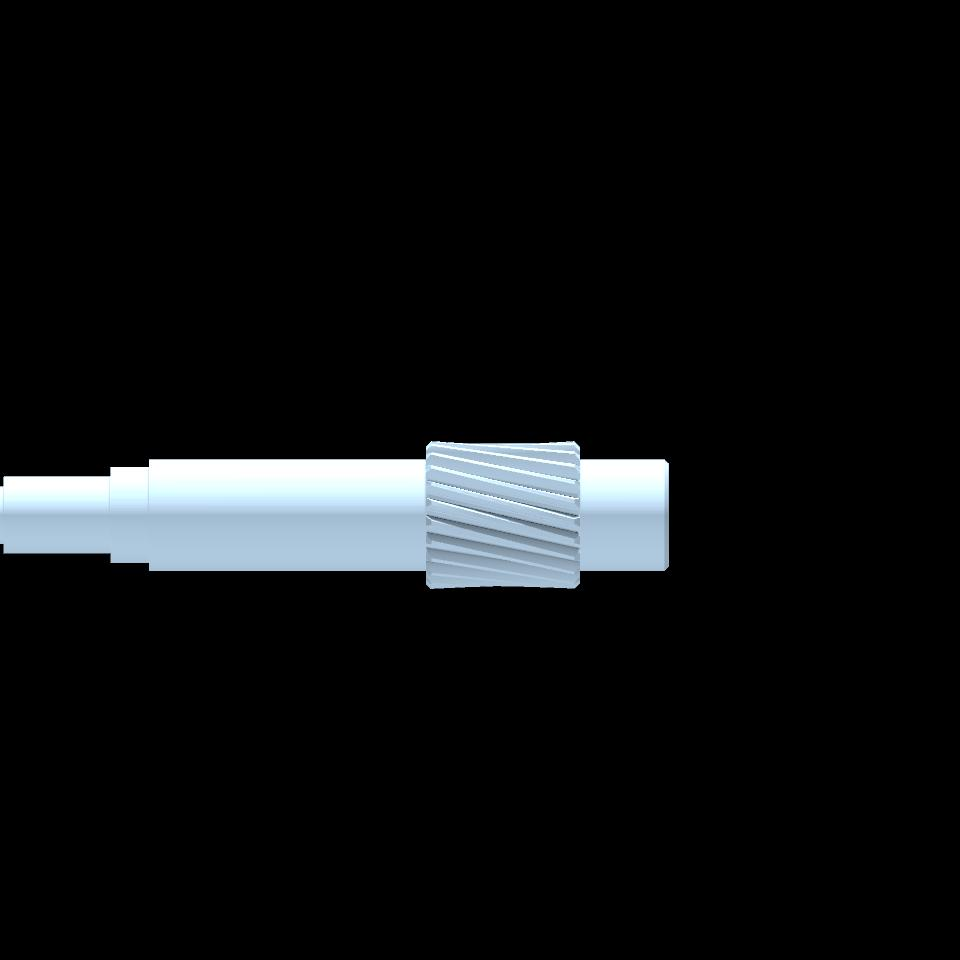Helical: (432, 441, 576, 588)
